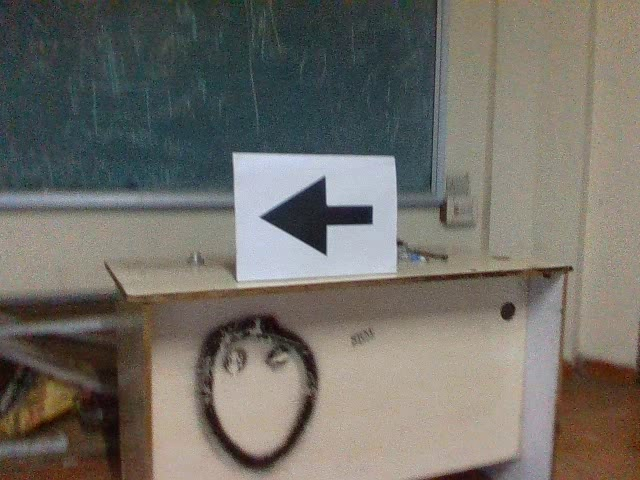Left: (254, 169, 379, 259)
